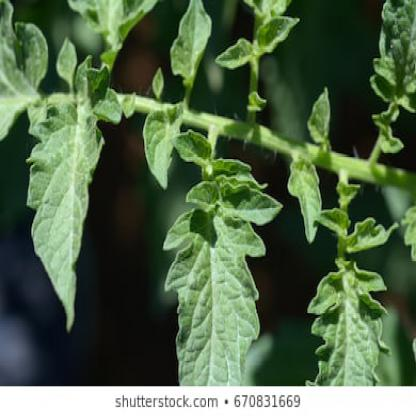tomato leaf mosaic virus: (28, 97, 109, 337), (158, 193, 259, 383), (166, 4, 215, 98), (140, 98, 186, 193), (286, 149, 325, 248), (173, 131, 210, 171)
